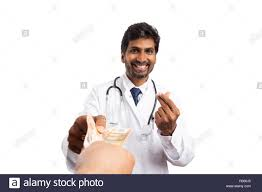Indian_Male: (124, 28, 159, 76)
